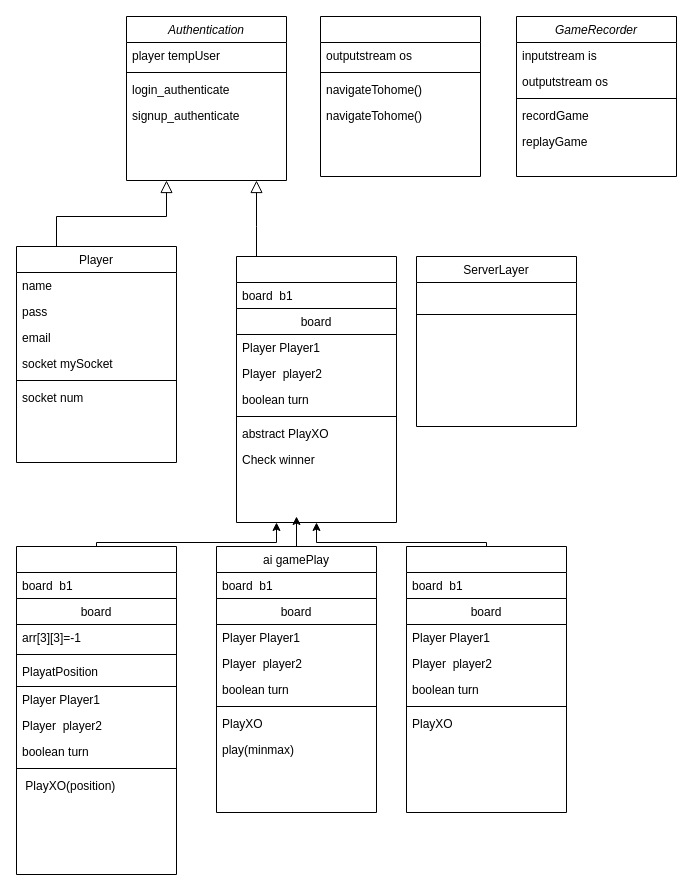
Image size: 693x891. Some labels were removed from this diagram. Here are the shapes that lost their labels. From the top down, the box of each, then its label:
(320, 16, 480, 176): SceneChanger
(236, 256, 396, 522): abstract gamePlay
(406, 546, 566, 812): online gamePlay
(16, 546, 176, 874): LocalgamePlay
